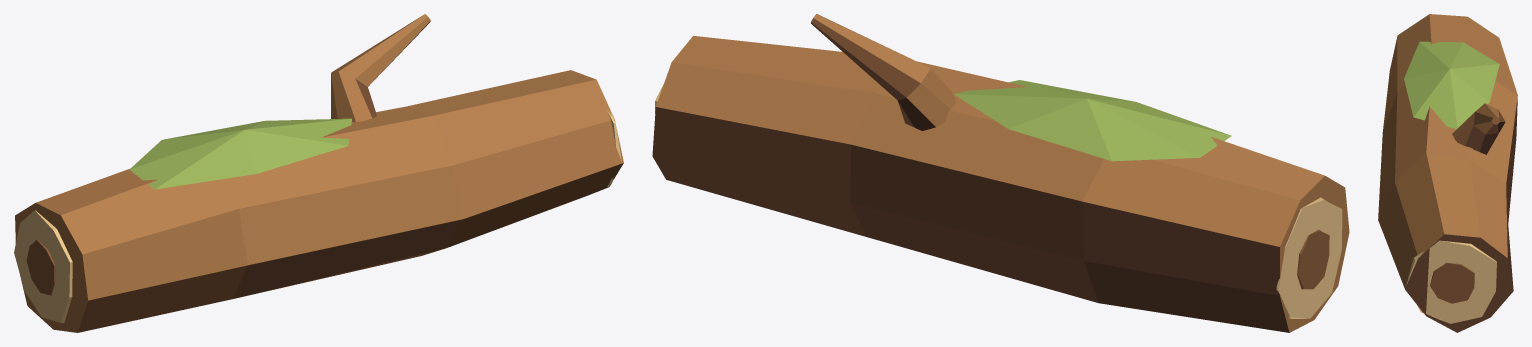
File: TroncoCaido.fbx
3 views of the same model, side by side, from view 1: azimuth 30°, elevation 25°; view 2: azimuth 150°, elevation 25°; view 3: azimuth 270°, elevation 25° (orthographic). The views are drawn at different scales.
Parts seen in each view (by area): view 1: TroncoCaido_Solido_1, TroncoCaido_Solido_2, TroncoCaido_Folha_6, TroncoCaido_Solido_4; view 2: TroncoCaido_Solido_3, TroncoCaido_Solido_1, TroncoCaido_Folha_6, TroncoCaido_Solido_4, TroncoCaido_Solido_2; view 3: TroncoCaido_Solido_1, TroncoCaido_Folha_6, TroncoCaido_Solido_3, TroncoCaido_Solido_4, TroncoCaido_Solido_2.
Boxes of the visible parts, x1,y1,x2,y2 form: TroncoCaido_Solido_1: (15, 14, 623, 332); TroncoCaido_Solido_2: (26, 21, 623, 332); TroncoCaido_Folha_6: (129, 118, 351, 189); TroncoCaido_Solido_4: (14, 89, 621, 323); TroncoCaido_Solido_3: (652, 22, 1289, 332); TroncoCaido_Solido_1: (656, 14, 1349, 332); TroncoCaido_Folha_6: (954, 80, 1231, 161); TroncoCaido_Solido_4: (655, 84, 1342, 318); TroncoCaido_Solido_2: (811, 18, 1329, 289); TroncoCaido_Solido_1: (1378, 14, 1517, 289); TroncoCaido_Folha_6: (1404, 41, 1499, 129); TroncoCaido_Solido_3: (1405, 95, 1517, 332); TroncoCaido_Solido_4: (1406, 240, 1496, 323); TroncoCaido_Solido_2: (1430, 110, 1505, 303).
Size of the model in its own units: 734 by 265 by 196.
